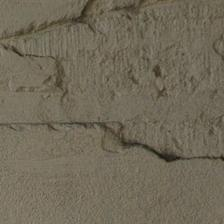Crack: (86, 27, 157, 172), (93, 13, 130, 89), (8, 0, 79, 39), (55, 57, 111, 79)
